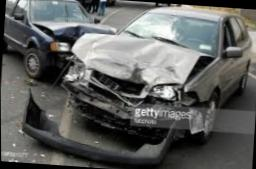Bonnet: (71, 31, 214, 105)
Bumper: (63, 81, 181, 143)
Light: (149, 83, 184, 101), (68, 58, 85, 80)
